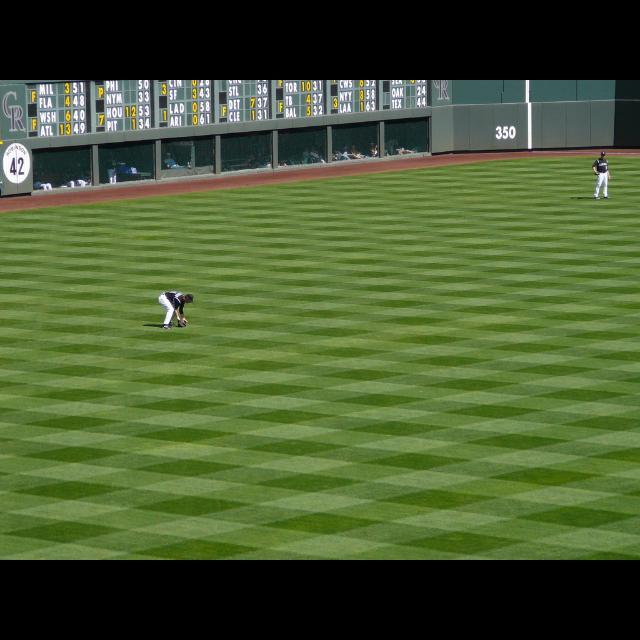football-players: (156, 290, 194, 331), (593, 149, 616, 200)
